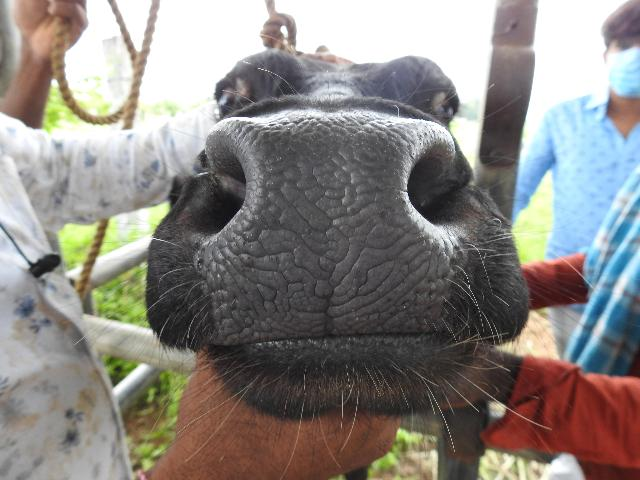Muzzle: (246, 120, 404, 317)
